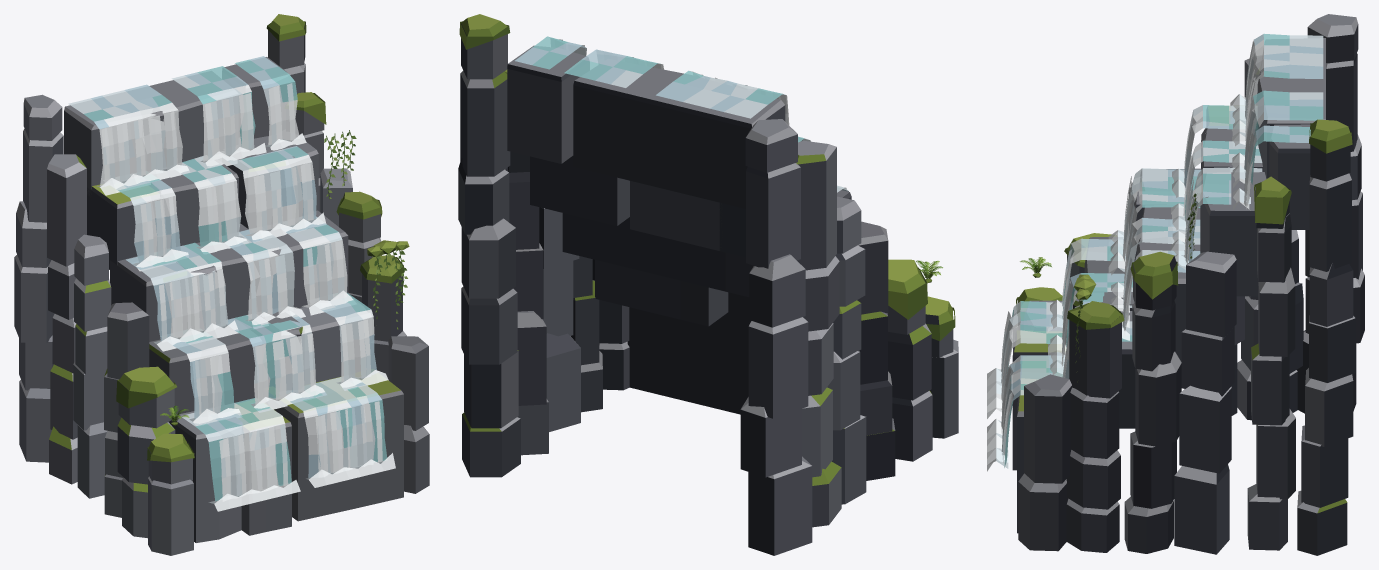
File: wf_cascade_steps.glb
3 renders of one model, left to right at view 1: azimuth 30°, elevation 25°; view 2: azimuth 150°, elevation 25°; view 3: azimuth 270°, elevation 25°, orthographic. The views are drawn at different scales.
Parts seen in each view (by area): view 1: wf_cascade_steps; view 2: wf_cascade_steps; view 3: wf_cascade_steps.
Boxes of the visible parts, <box> form: wf_cascade_steps: <box>14,14,429,555</box>; wf_cascade_steps: <box>458,14,958,555</box>; wf_cascade_steps: <box>987,14,1364,555</box>.
Size of the model in its own units: 12.4 by 15.22 by 12.42.
